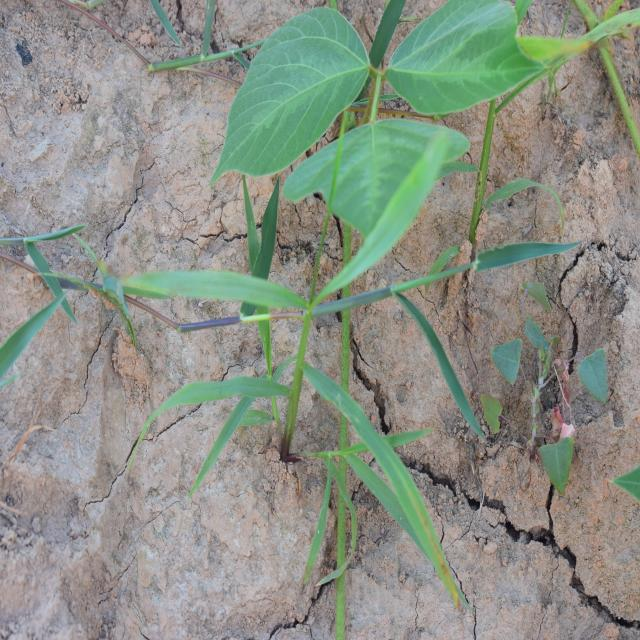green_foxtail: (162, 140, 427, 528)
